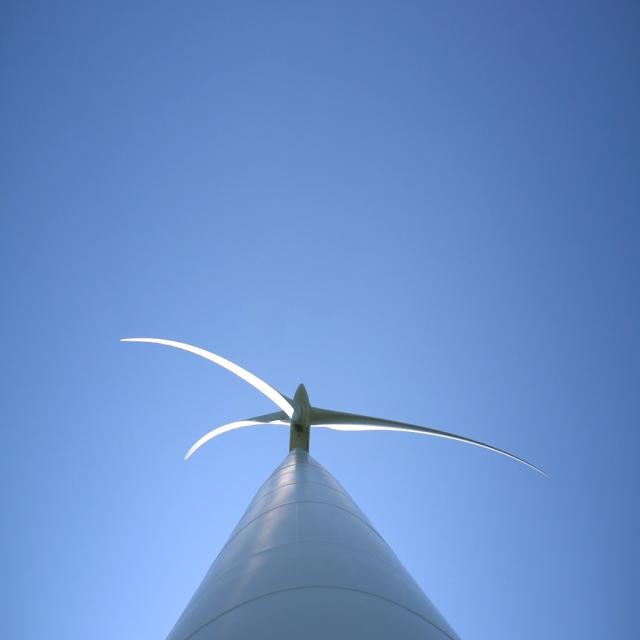blade 1: (324, 391, 526, 473)
blade 2: (135, 405, 281, 469)
blade 3: (117, 324, 287, 389)
